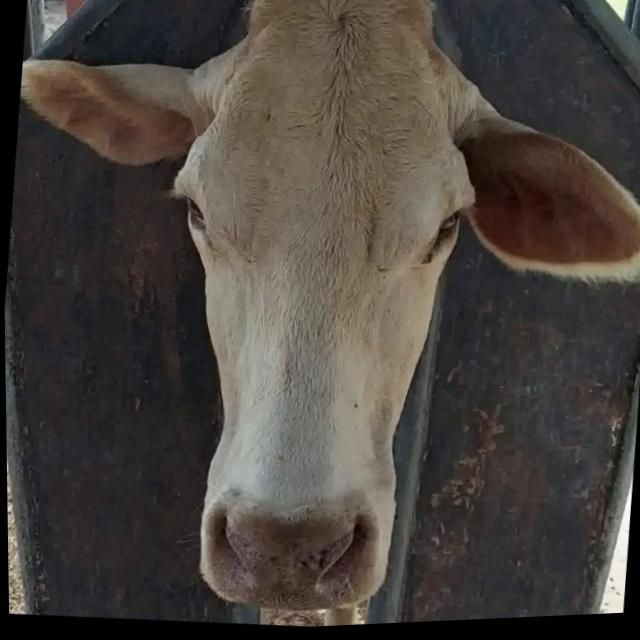cowFace: (146, 0, 495, 626)
